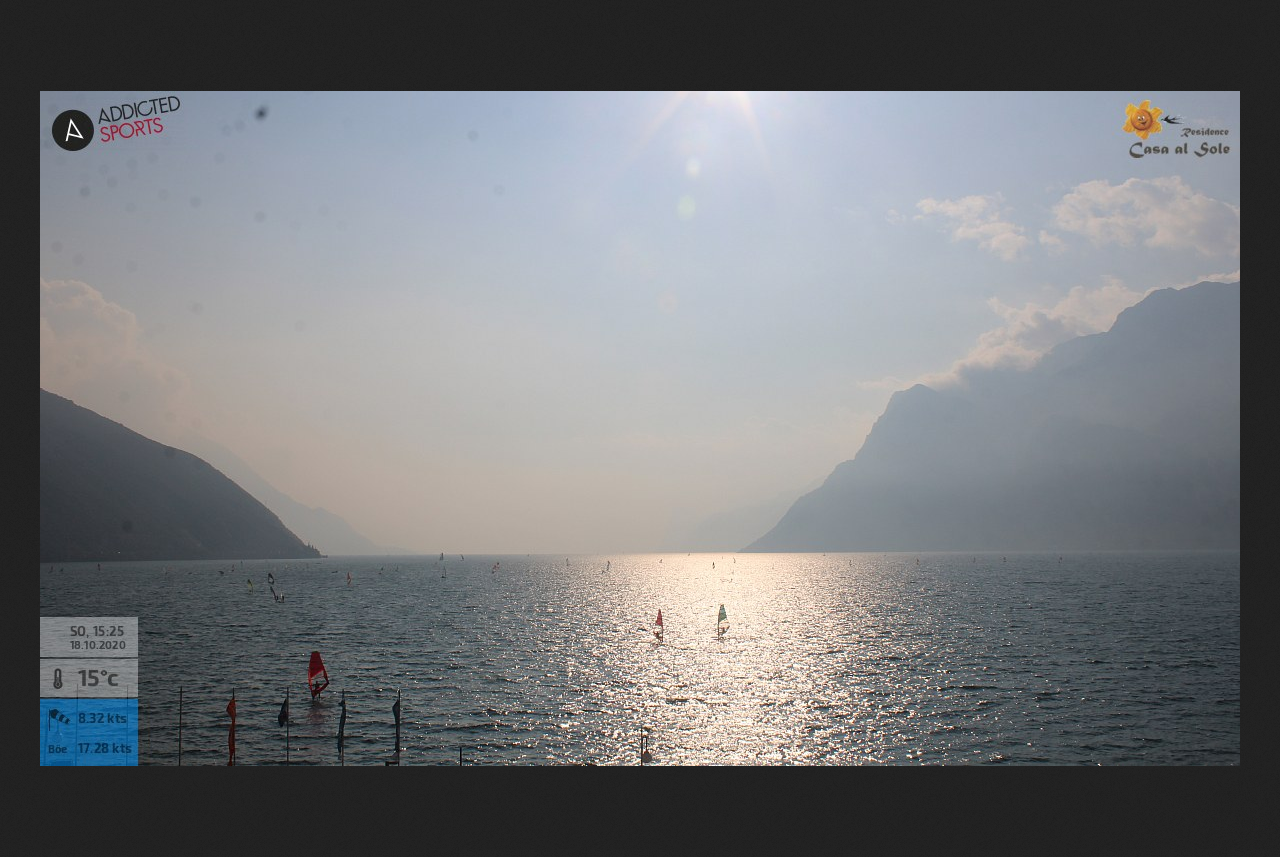maybe: (275, 690, 293, 727)
no: (383, 695, 409, 758), (220, 694, 243, 762), (329, 698, 352, 758)
